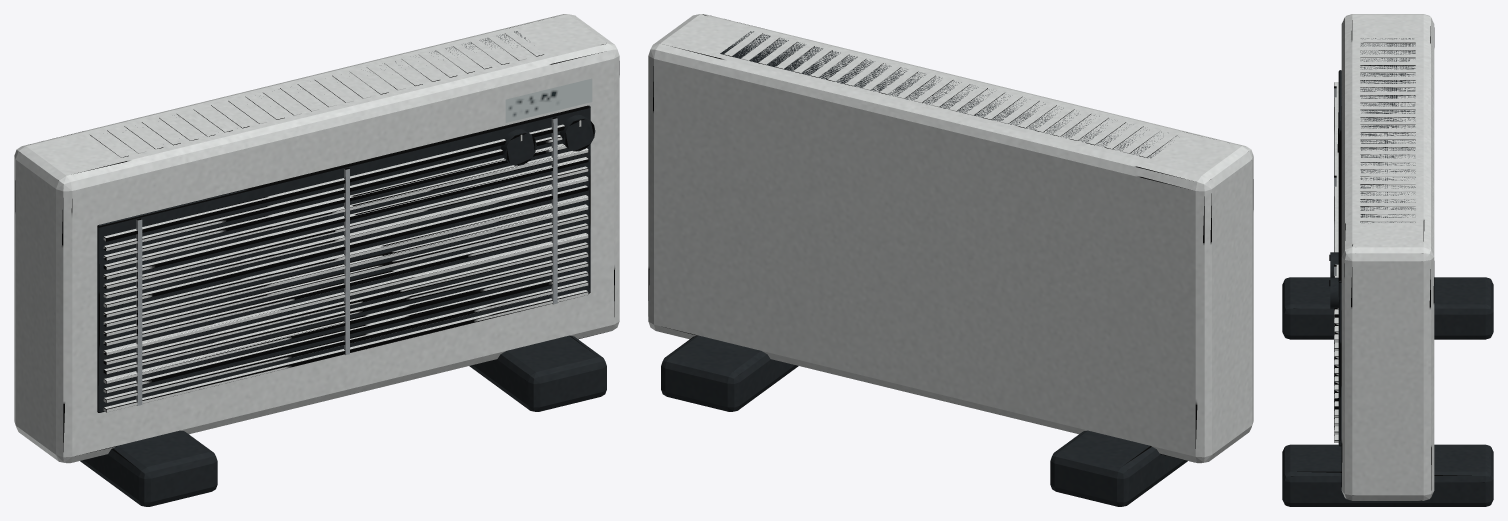
File: SM_Heater_01.fbx
3 views of the same model, side by side, from view 1: azimuth 30°, elevation 25°; view 2: azimuth 150°, elevation 25°; view 3: azimuth 270°, elevation 25° (orthographic). The views are drawn at different scales.
Visible parts, largest first — view 1: SM_Heater_01_Body, SM_Heater_01; view 2: SM_Heater_01_Body; view 3: SM_Heater_01_Body, SM_Heater_01.
Boxes of the visible parts, x1,y1,x2,y2 form: SM_Heater_01_Body: (14,14,619,506); SM_Heater_01: (501,115,595,165); SM_Heater_01_Body: (648,14,1253,506); SM_Heater_01_Body: (1282,14,1493,506); SM_Heater_01: (1329,252,1338,309).
Bounding box in the file's own units: 0.65 × 0.35 × 0.24.
